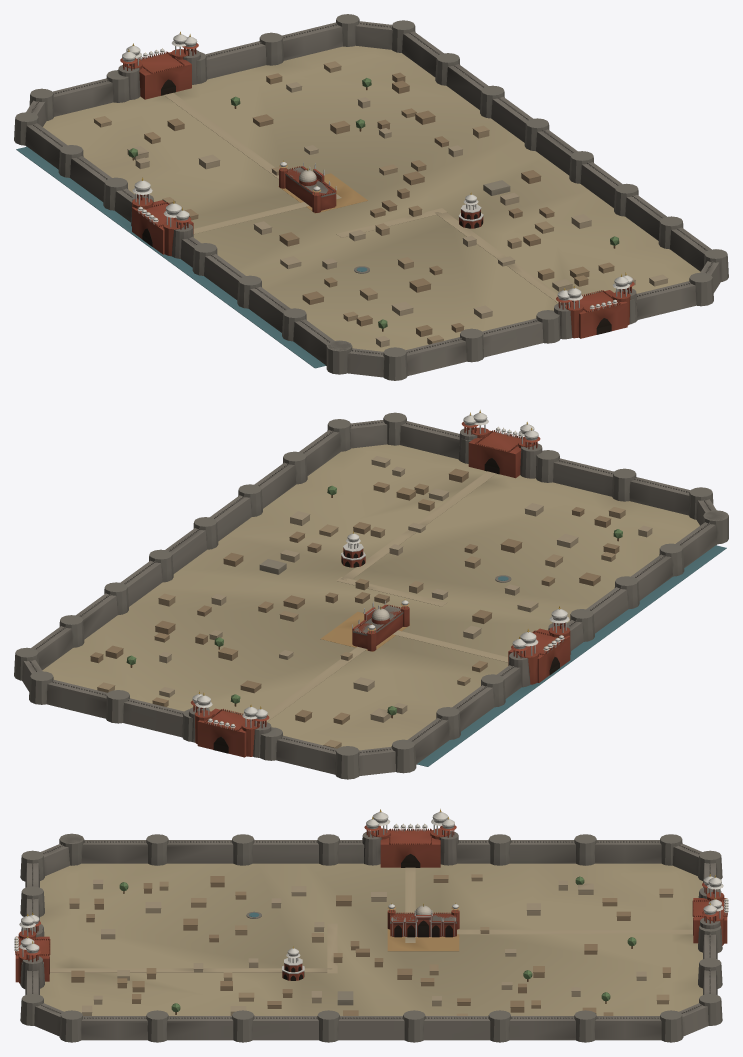
The model's file is purana-qila-village.glb.
The picture shows the model from 3 angles, top to bottom: view 1: azimuth 30°, elevation 25°; view 2: azimuth 150°, elevation 25°; view 3: azimuth 270°, elevation 25°; orthographic projection. The views are drawn at different scales.
Visible parts, largest first — view 1: p0_walls, p1_gates, p3_village, p2_mosque and library; view 2: p0_walls, p1_gates, p3_village, p2_mosque and library; view 3: p0_walls, p1_gates, p3_village, p2_mosque and library.
Part boxes in pixels (x1,y1,x2,y2): p0_walls: (14,14,728,380); p1_gates: (118,31,637,339); p3_village: (94,61,668,347); p2_mosque and library: (278,160,510,273); p0_walls: (14,412,728,779); p1_gates: (189,410,570,757); p3_village: (90,456,652,748); p2_mosque and library: (259,531,511,651); p0_walls: (20,833,722,1042); p1_gates: (14,809,728,988); p3_village: (69,874,673,1015); p2_mosque and library: (246,903,459,1005).
Bounding box in the file's own units: 344 × 42.91 × 549.
